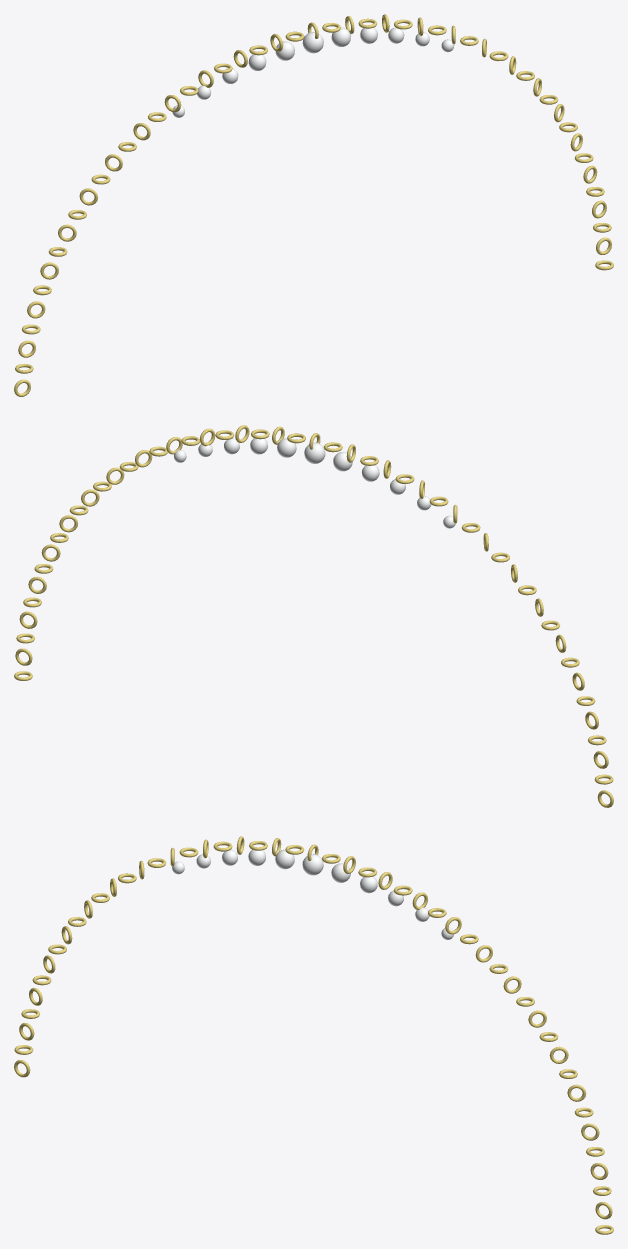
The model's file is necklace.glb.
The picture shows the model from 3 angles, top to bottom: view 1: azimuth 30°, elevation 25°; view 2: azimuth 150°, elevation 25°; view 3: azimuth 330°, elevation 25°; orthographic projection.
Visible parts, largest first — view 1: chain_metal, graduated_diamond_stone; view 2: chain_metal, graduated_diamond_stone; view 3: chain_metal, graduated_diamond_stone.
Boxes of the visible parts, bbox=[...] form: chain_metal: bbox=[14, 14, 613, 396]; graduated_diamond_stone: bbox=[172, 27, 454, 117]; chain_metal: bbox=[14, 425, 613, 807]; graduated_diamond_stone: bbox=[174, 438, 455, 528]; chain_metal: bbox=[14, 836, 613, 1234]; graduated_diamond_stone: bbox=[172, 849, 453, 939].
Size of the model in its own units: 4.52 by 2.27 by 0.14.
